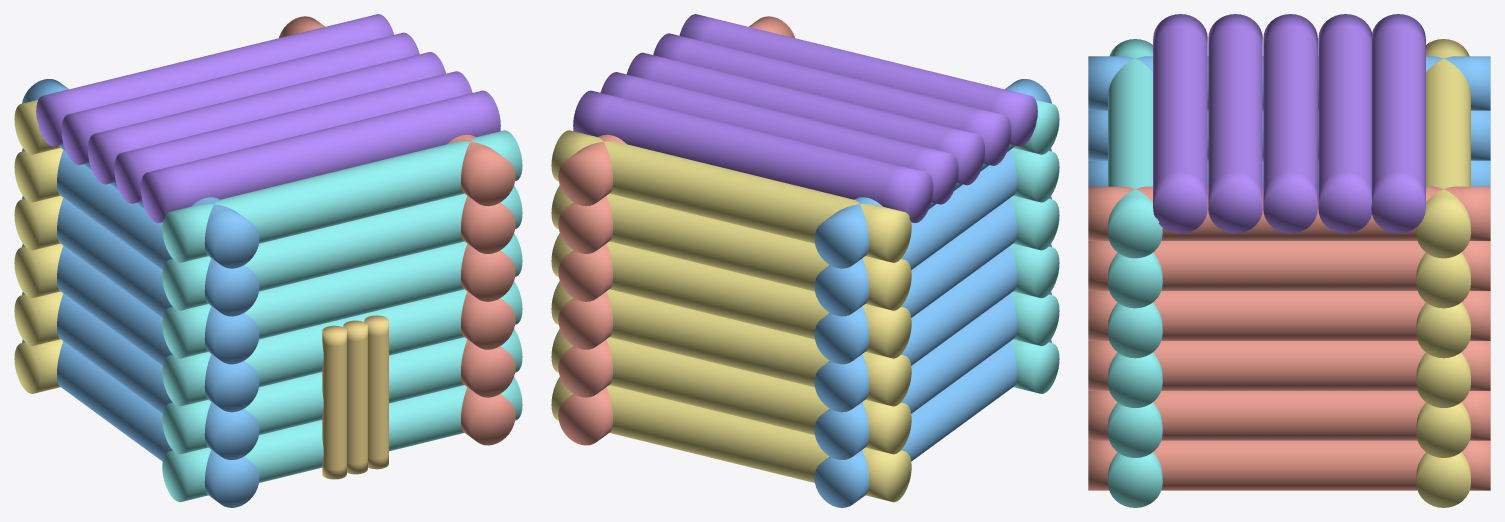
Rendered from Cross_Cabbasic.fbx.
3 views of the same model, side by side, from view 1: azimuth 30°, elevation 25°; view 2: azimuth 150°, elevation 25°; view 3: azimuth 270°, elevation 25° (orthographic). The views are drawn at different scales.
Parts seen in each view (by area): view 1: L_Hori_Log1_3; view 2: L_Hori_Log1_3; view 3: L_Hori_Log1_3.
Boxes of the visible parts, box(x1,y1,x2,y2) form: L_Hori_Log1_3: box(14, 14, 522, 507); L_Hori_Log1_3: box(551, 14, 1059, 507); L_Hori_Log1_3: box(1088, 14, 1490, 507).
Size of the model in its own units: 3.65 by 3.25 by 3.65.
